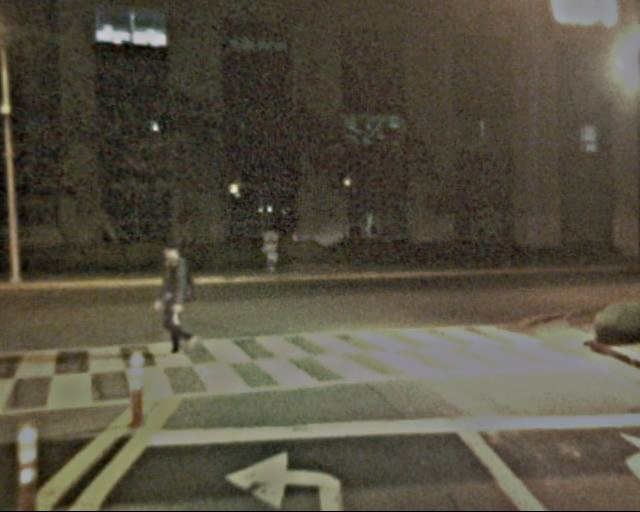person: (149, 237, 203, 363)
